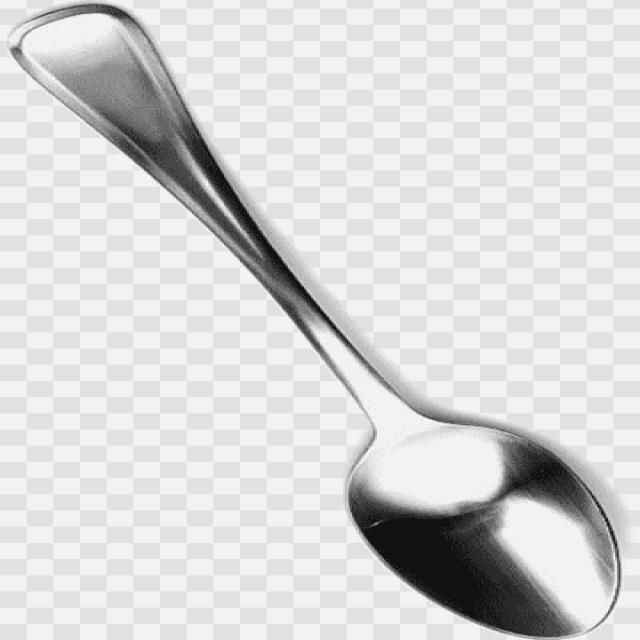Sendok: (0, 0, 622, 635)
